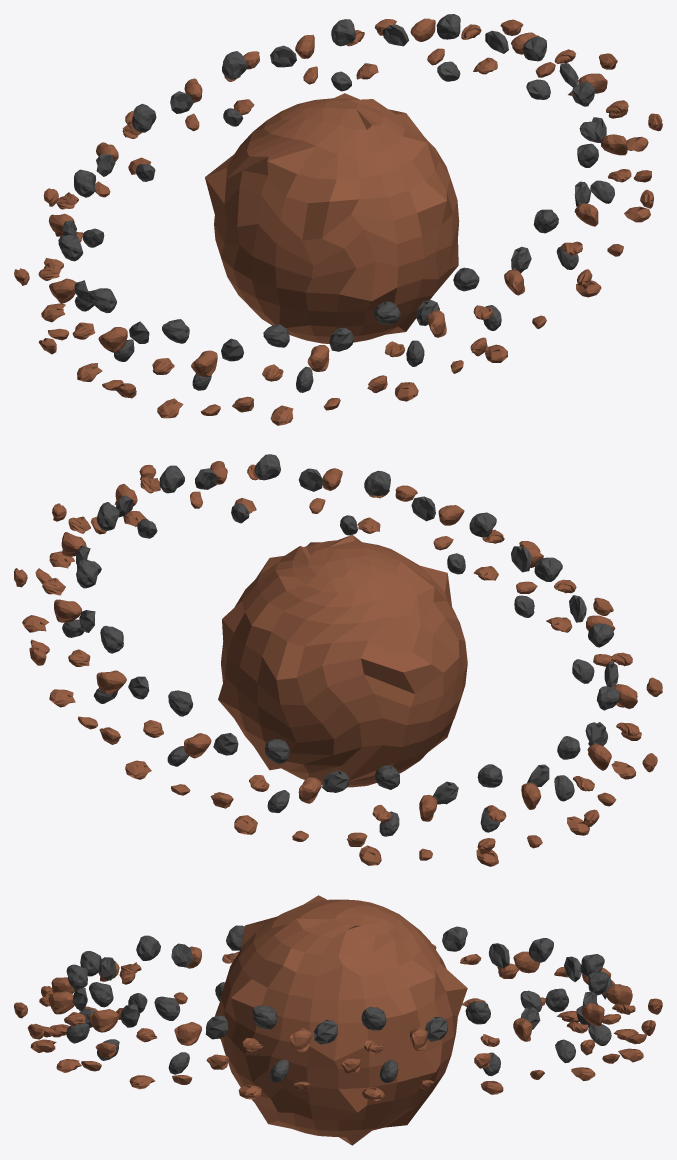
Rendered from Planet13.fbx.
3 views of the same model, one above another, from view 1: azimuth 30°, elevation 25°; view 2: azimuth 150°, elevation 25°; view 3: azimuth 270°, elevation 25° (orthographic). The views are drawn at different scales.
Visible parts, largest first — view 1: Planet13; view 2: Planet13; view 3: Planet13.
Part boxes in pixels (x1,y1,x2,y2): Planet13: [14, 14, 662, 425]; Planet13: [14, 454, 662, 866]; Planet13: [14, 895, 662, 1145].
Bounding box in the file's own units: 44.35 × 17.75 × 45.89.
